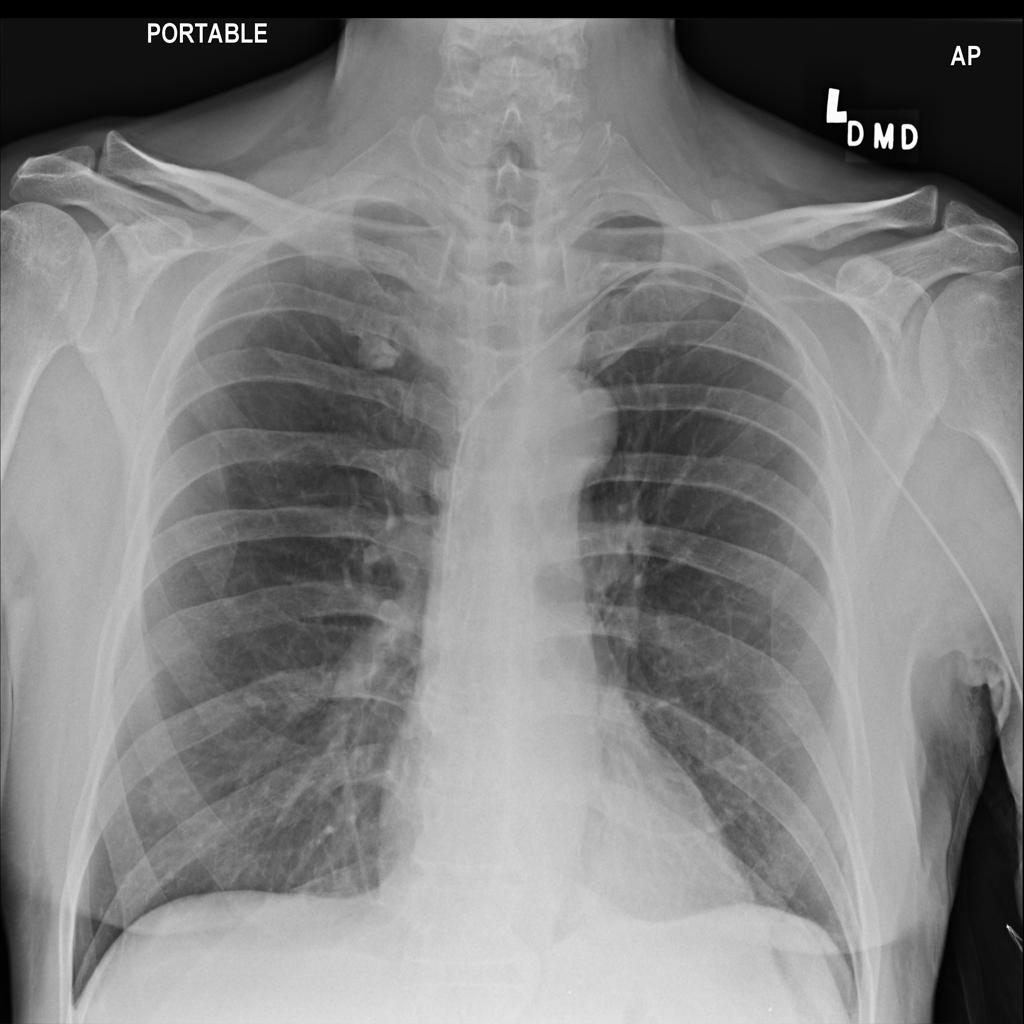nodule: (341, 313, 415, 381)
